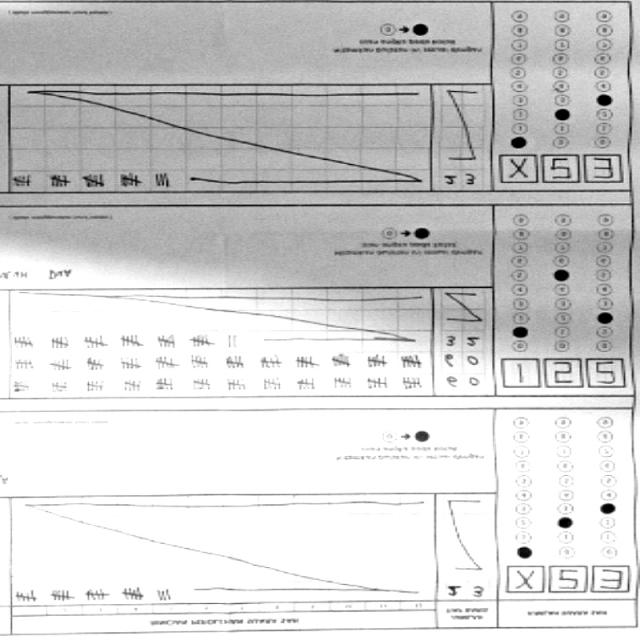Suara: (492, 356, 630, 396), (499, 560, 636, 600), (492, 150, 629, 190)
